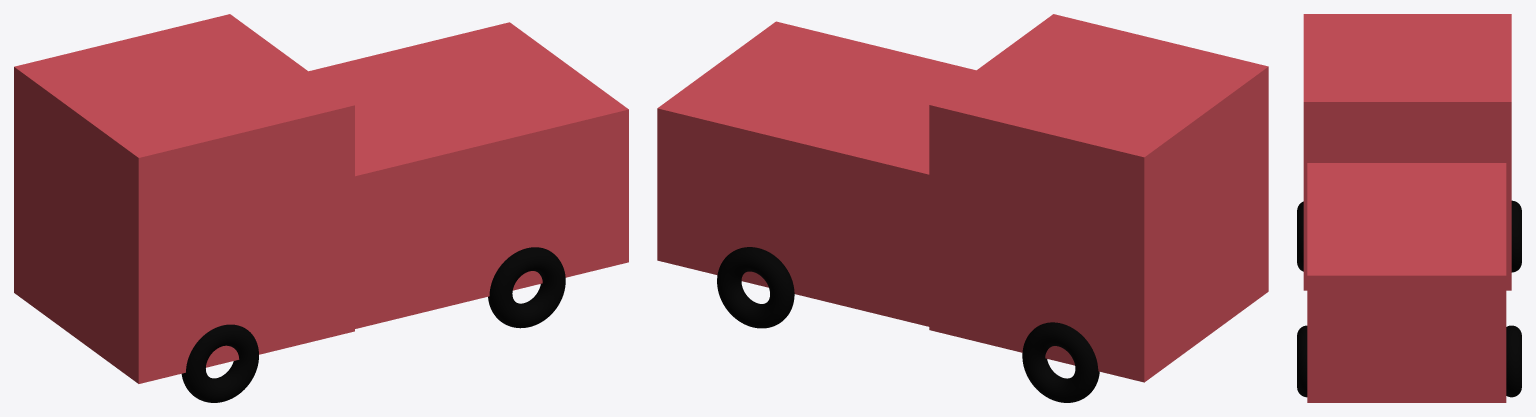
File: fire_trunk_base.glb
3 views of the same model, side by side, from view 1: azimuth 30°, elevation 25°; view 2: azimuth 150°, elevation 25°; view 3: azimuth 270°, elevation 25° (orthographic). The views are drawn at different scales.
Bounding box in the file's own units: 0.0912 × 0.0469 × 0.0432.
